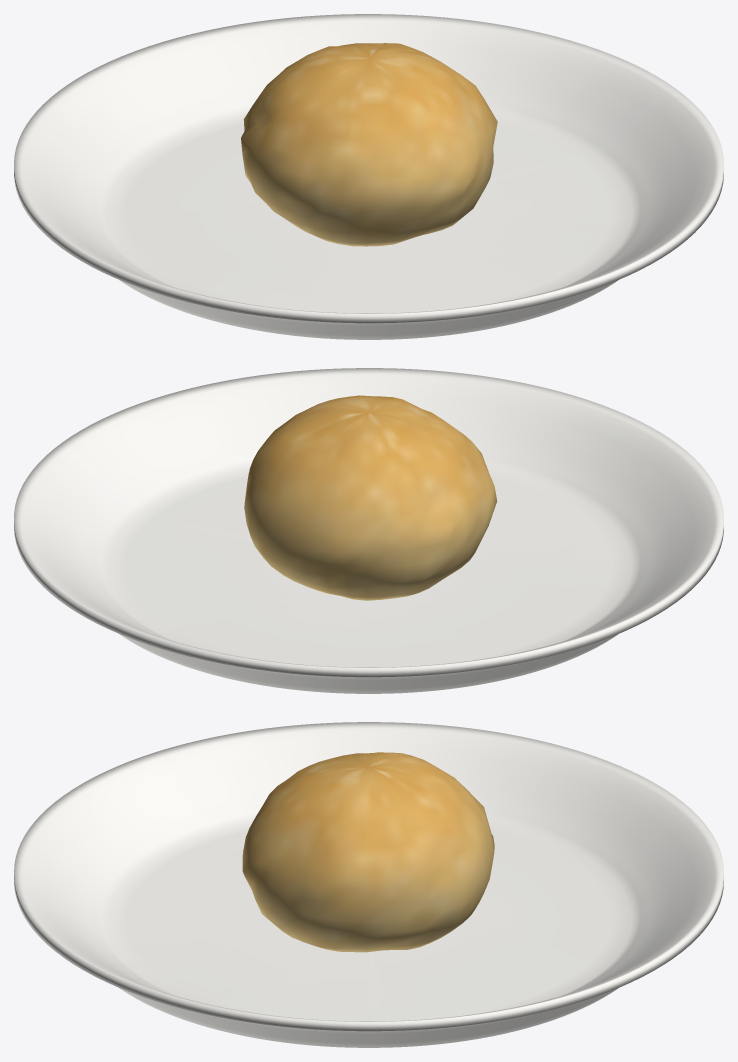
Rendered from pao-de-queijo.glb.
3 renders of one model, top to bottom at view 1: azimuth 30°, elevation 25°; view 2: azimuth 150°, elevation 25°; view 3: azimuth 270°, elevation 25°, orthographic.
Parts seen in each view (by area): view 1: ceramic, satin; view 2: ceramic, satin; view 3: ceramic, satin.
Part boxes in pixels (x1,y1,x2,y2): ceramic: (14, 14, 723, 339); satin: (241, 43, 497, 246); ceramic: (14, 368, 723, 693); satin: (244, 395, 497, 600); ceramic: (14, 722, 723, 1047); satin: (242, 752, 494, 952).
Size of the model in its own units: 0.14 by 0.0395 by 0.14.
2 materials, 2 textured.
